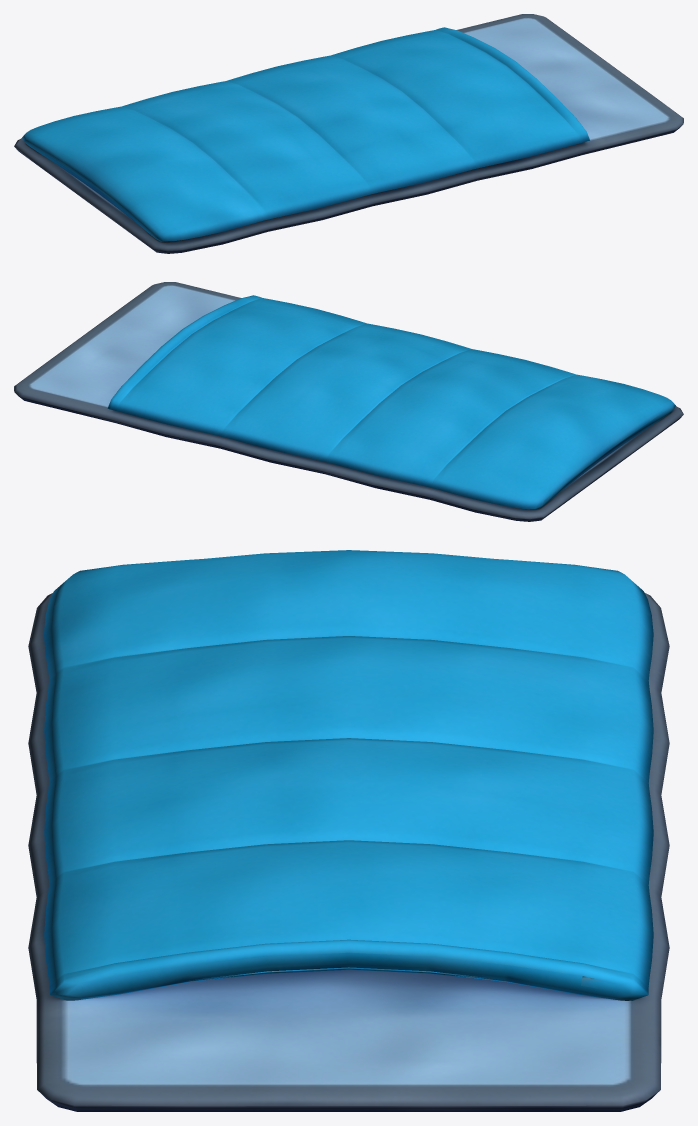
The model's file is sleeping_bag.gltf.
3 views of the same model, one above another, from view 1: azimuth 30°, elevation 25°; view 2: azimuth 150°, elevation 25°; view 3: azimuth 270°, elevation 25° (orthographic). The views are drawn at different scales.
Visible parts, largest first — view 1: sleeping_bag; view 2: sleeping_bag; view 3: sleeping_bag.
Part boxes in pixels (x1,y1,x2,y2): sleeping_bag: (14, 14, 683, 253); sleeping_bag: (14, 282, 683, 521); sleeping_bag: (28, 550, 669, 1111).
Bounding box in the file's own units: 0.3831 × 0.03 × 0.2.
Materials: 1 (1 with a texture image).
